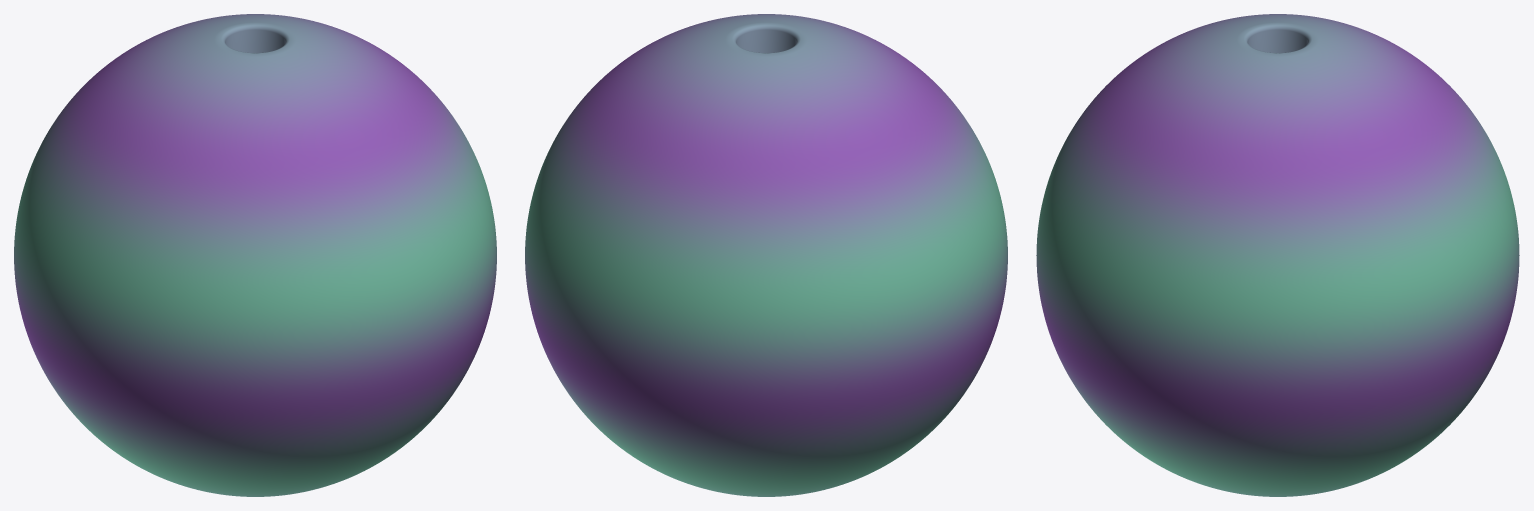
Rendered from fluorite-clear-8mm.glb.
The picture shows the model from 3 angles, left to right: view 1: azimuth 30°, elevation 25°; view 2: azimuth 150°, elevation 25°; view 3: azimuth 270°, elevation 25°; orthographic projection.
Parts seen in each view (by area): view 1: 冰透萤石; view 2: 冰透萤石; view 3: 冰透萤石.
Boxes of the visible parts, x1,y1,x2,y2 form: 冰透萤石: (14, 14, 496, 496); 冰透萤石: (525, 14, 1007, 496); 冰透萤石: (1036, 14, 1519, 496).
Size of the model in its own units: 0.008 by 0.00792 by 0.008.
